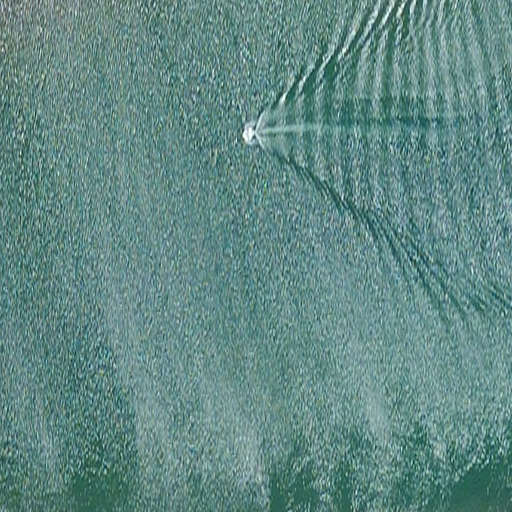ship: (240, 125, 263, 146)
